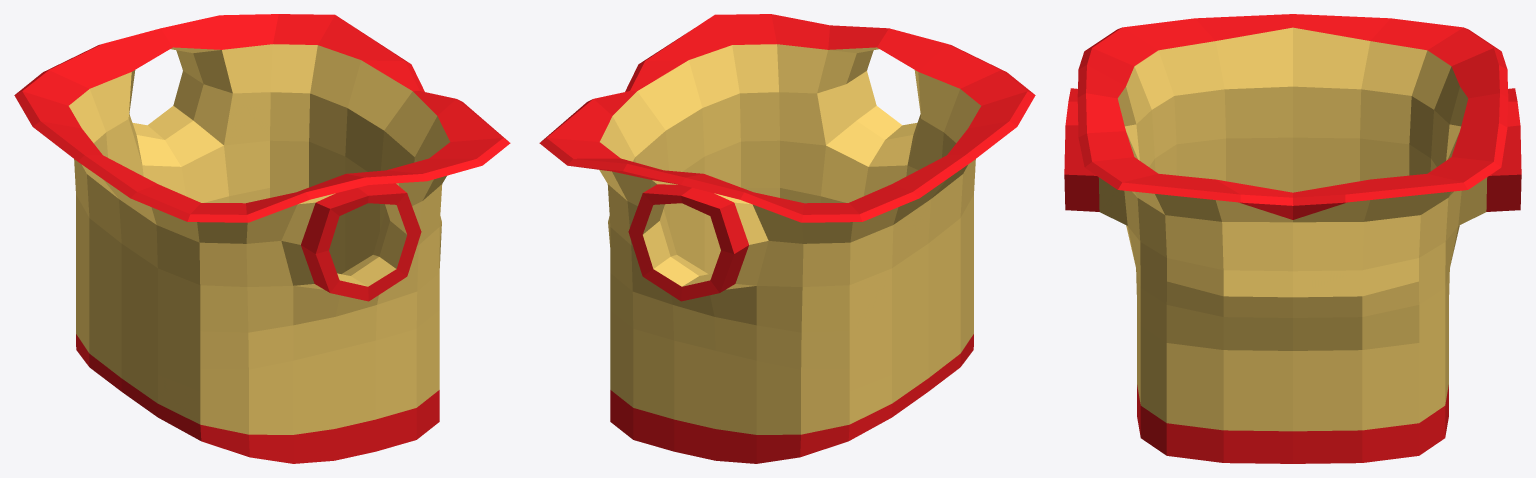
File: roupa manga curta.fbx
The picture shows the model from 3 angles, left to right: view 1: azimuth 30°, elevation 25°; view 2: azimuth 150°, elevation 25°; view 3: azimuth 270°, elevation 25°; orthographic projection.
Visible parts, largest first — view 1: Cube.013; view 2: Cube.013; view 3: Cube.013.
Part boxes in pixels (x1,y1,x2,y2): Cube.013: (14, 14, 510, 463); Cube.013: (539, 14, 1035, 463); Cube.013: (1064, 14, 1521, 463).
Size of the model in its own units: 156 by 125 by 170.
1 material, 1 textured.
